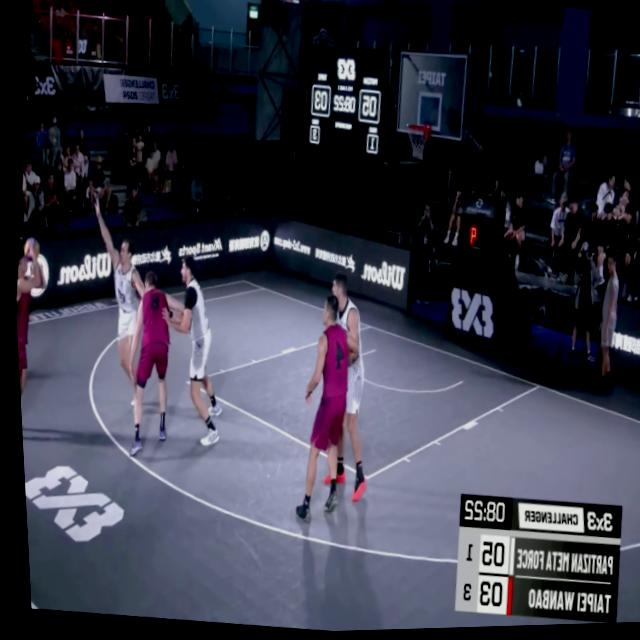ball: (19, 234, 39, 261)
hoop: (400, 122, 430, 165)
player: (274, 294, 369, 529), (66, 192, 165, 408), (305, 270, 383, 509), (146, 250, 235, 444), (115, 270, 183, 468), (9, 226, 56, 440)
